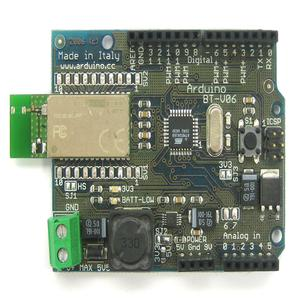duino: (30, 21, 288, 278)
